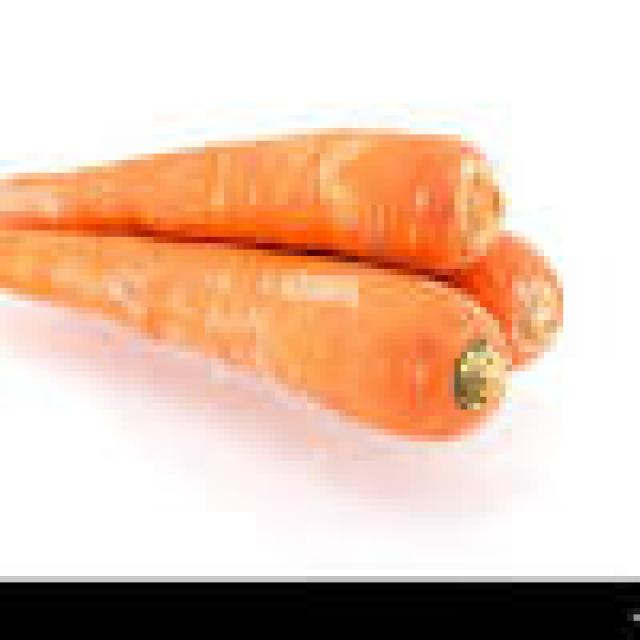Fresh_Carrot: (19, 67, 602, 455)
